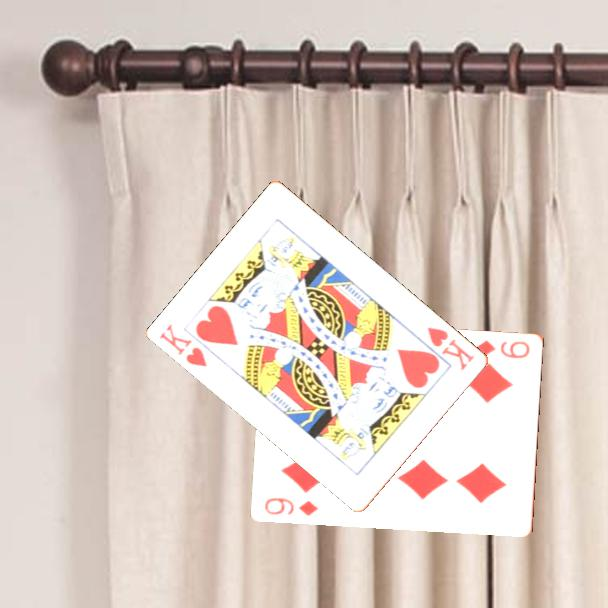d09: (262, 494, 321, 519), (473, 337, 533, 361)
h13: (424, 323, 478, 373), (156, 320, 210, 370)
